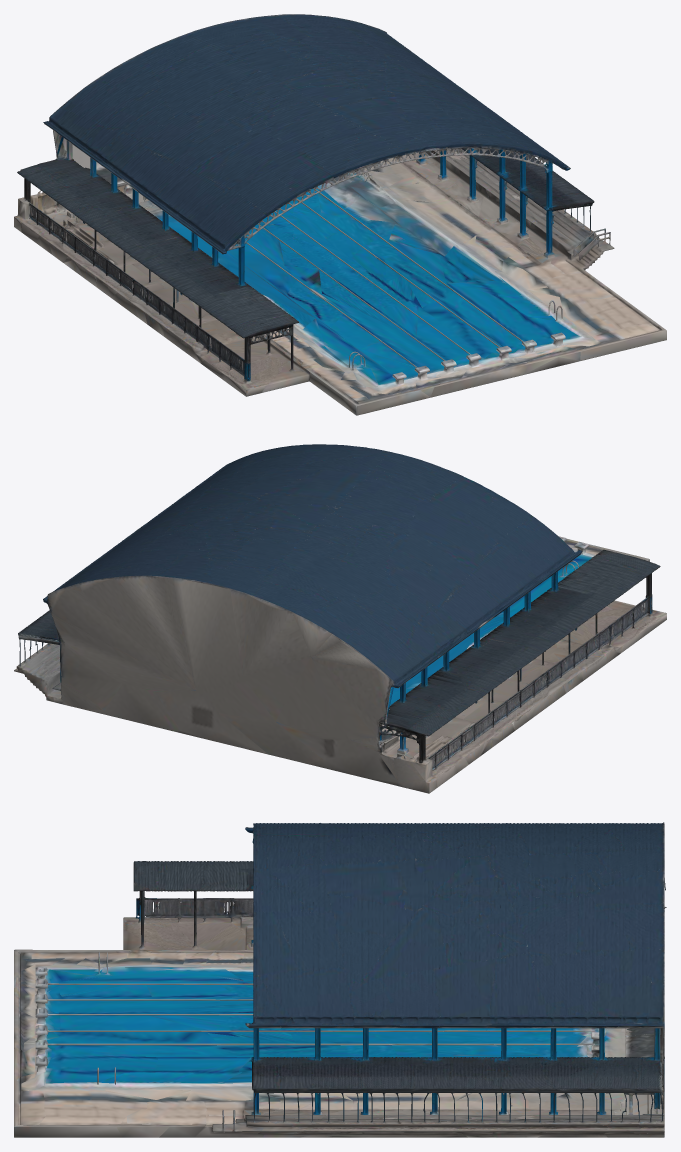
Rendered from swimming_pool.glb.
3 renders of one model, top to bottom at view 1: azimuth 30°, elevation 25°; view 2: azimuth 150°, elevation 25°; view 3: azimuth 270°, elevation 25°, orthographic. The views are drawn at different scales.
Parts seen in each view (by area): view 1: Meshy_AI_Azure_Arena_Pool_0814103755_texture.001; view 2: Meshy_AI_Azure_Arena_Pool_0814103755_texture.001; view 3: Meshy_AI_Azure_Arena_Pool_0814103755_texture.001.
Part boxes in pixels (left/top/right/bottom): Meshy_AI_Azure_Arena_Pool_0814103755_texture.001: left=14, top=14, right=666, bottom=415; Meshy_AI_Azure_Arena_Pool_0814103755_texture.001: left=14, top=444, right=666, bottom=793; Meshy_AI_Azure_Arena_Pool_0814103755_texture.001: left=14, top=822, right=666, bottom=1137.
Bounding box in the file's own units: 1.6 × 0.5764 × 1.91.
Materials: 1 (1 with a texture image).
